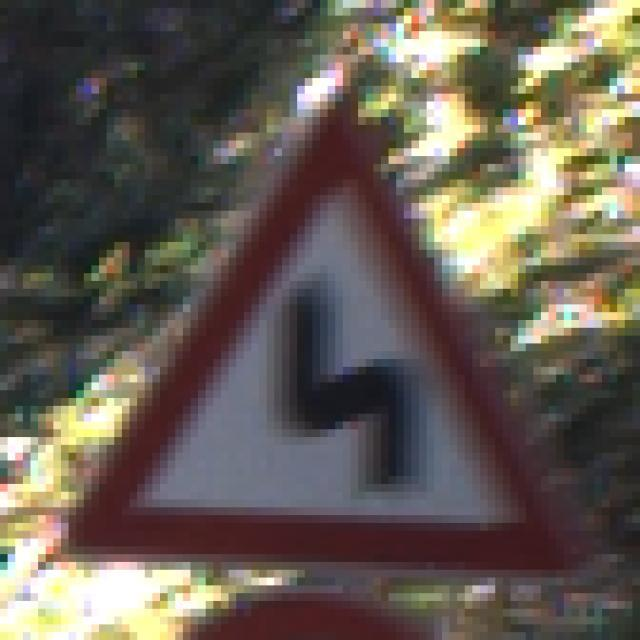left reverse bend: (53, 59, 601, 603)
